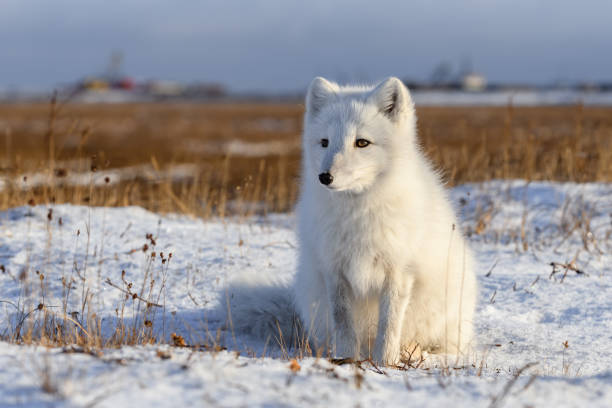arcticfox: (304, 105, 414, 210)
